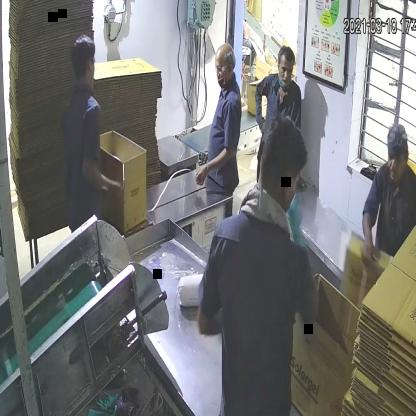no_glove: (77, 151, 131, 205), (192, 144, 239, 189), (359, 205, 379, 275)
